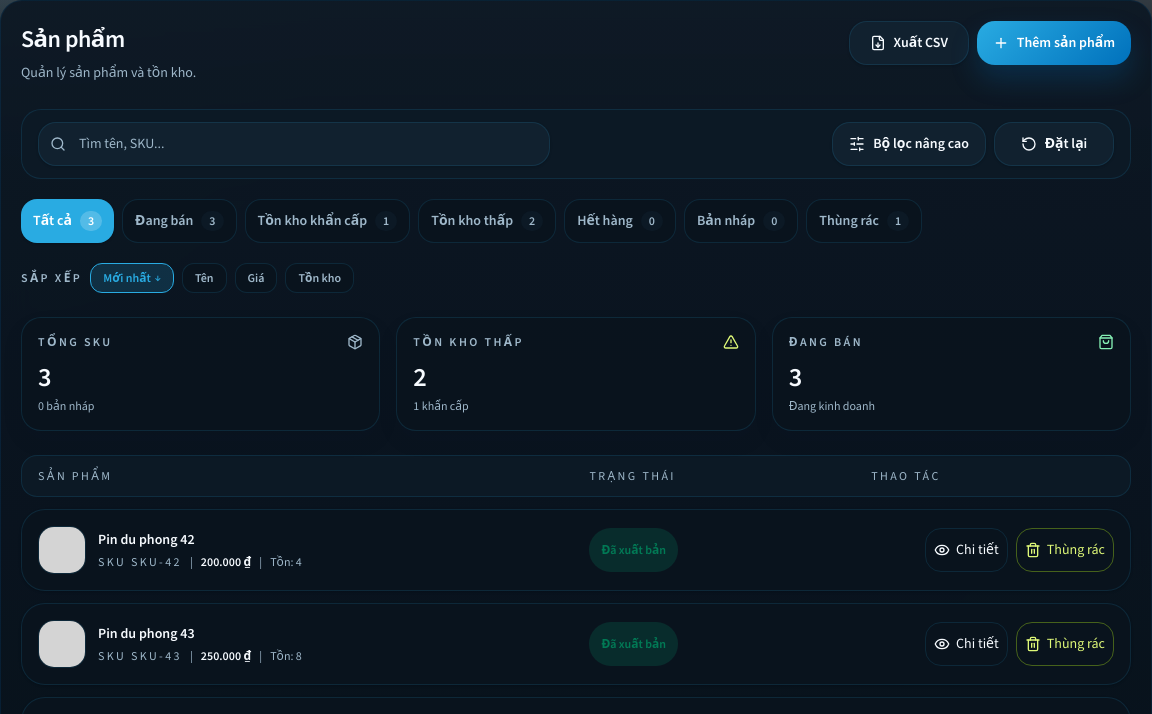
Scenario: ProductsPage › Thùng rác (trash) › tab Thùng rác hiển thị record đã xóa với nút Khôi phục và Xóa vĩnh viễn
The image size is (1152, 714).
Click the button "Thùng rác 1": (864, 221) x1=806 y1=199 x2=922 y2=243
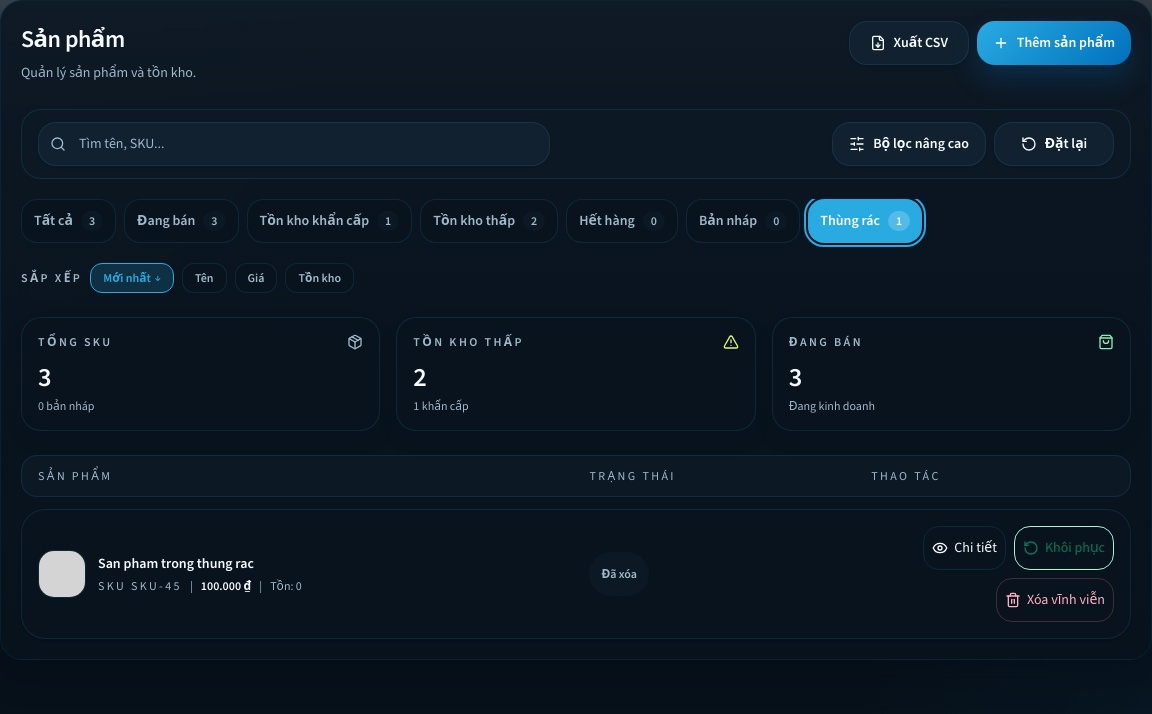
Result: the text "San pham trong thung rac" is shown at x1=98 y1=554 x2=254 y2=574
Result: the button "Khôi phục" is shown at x1=1014 y1=526 x2=1114 y2=570
Result: the button "Xóa vĩnh viễn" is shown at x1=996 y1=578 x2=1114 y2=622
